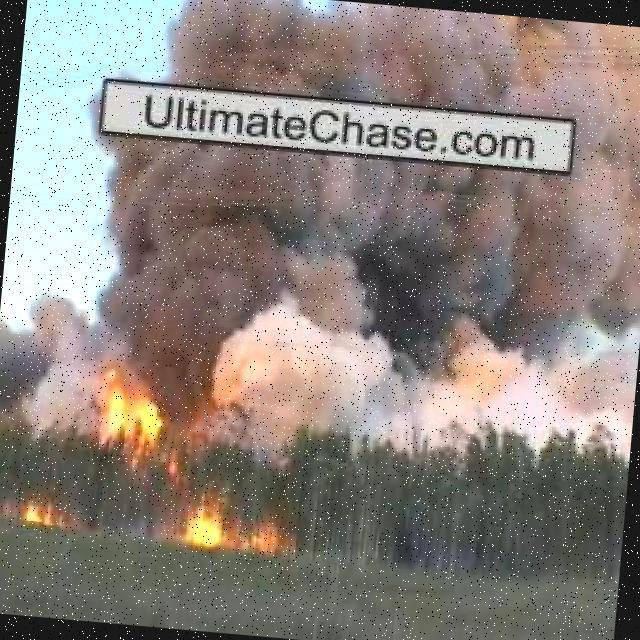Fire: (89, 362, 170, 459), (185, 501, 231, 544), (253, 514, 287, 557), (22, 501, 58, 524)
